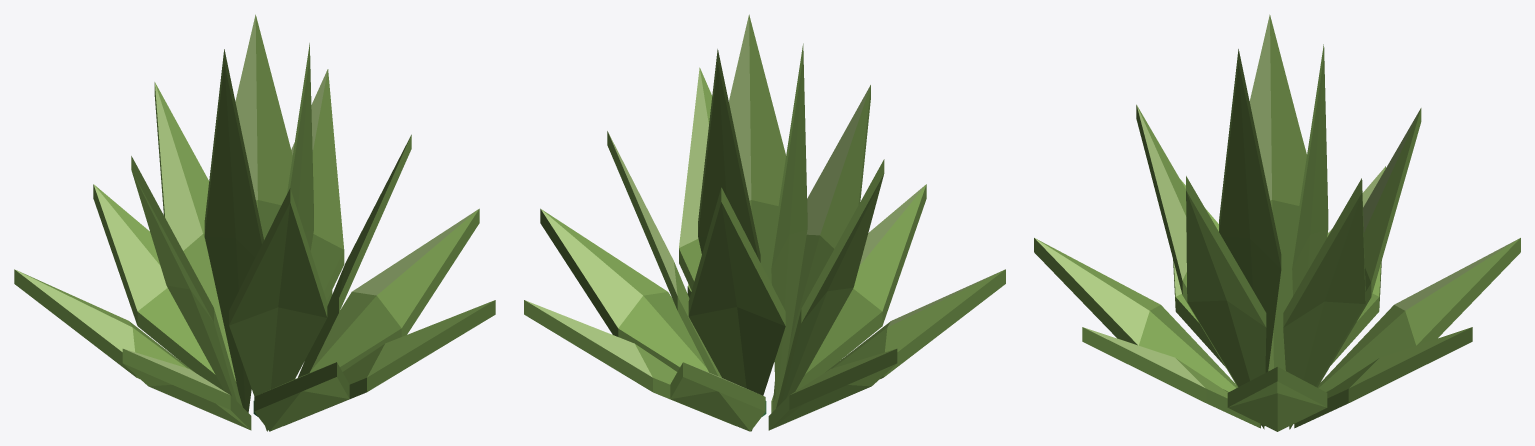
File: aloe_vera_stage_03.fbx
3 renders of one model, left to right at view 1: azimuth 30°, elevation 25°; view 2: azimuth 150°, elevation 25°; view 3: azimuth 270°, elevation 25°, orthographic.
Visible parts, largest first — view 1: aloe_vera_stage_03__Foliage; view 2: aloe_vera_stage_03__Foliage; view 3: aloe_vera_stage_03__Foliage.
Boxes of the visible parts, bbox=[...] form: aloe_vera_stage_03__Foliage: bbox=[14, 14, 495, 431]; aloe_vera_stage_03__Foliage: bbox=[524, 14, 1005, 431]; aloe_vera_stage_03__Foliage: bbox=[1034, 14, 1520, 431].
Size of the model in its own units: 1.33 by 1.2 by 1.36.
1 material, 1 textured.
